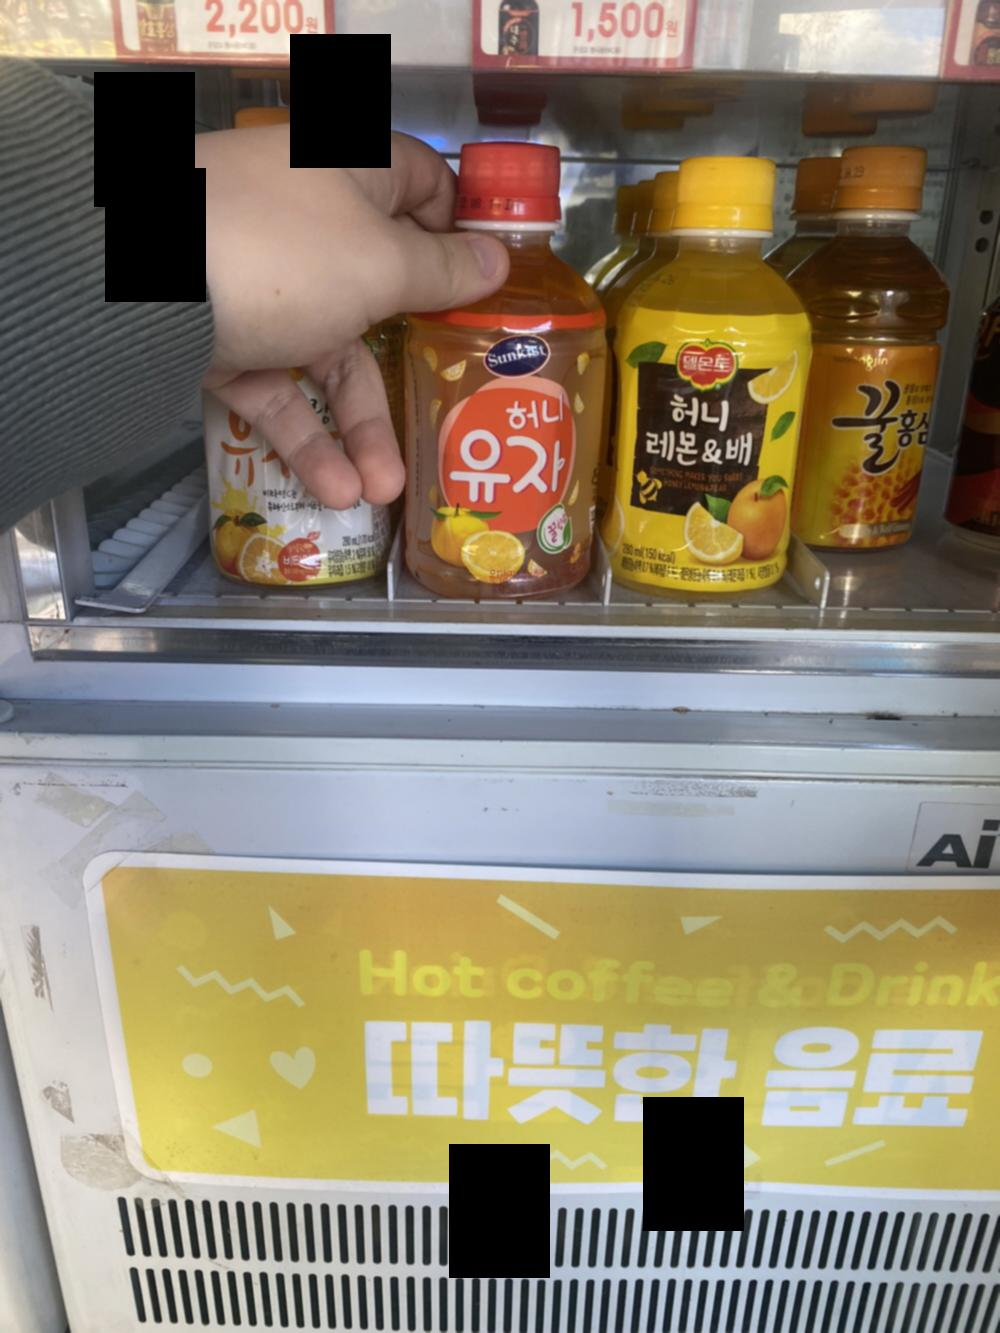honeyyuja: (415, 147, 614, 584)
